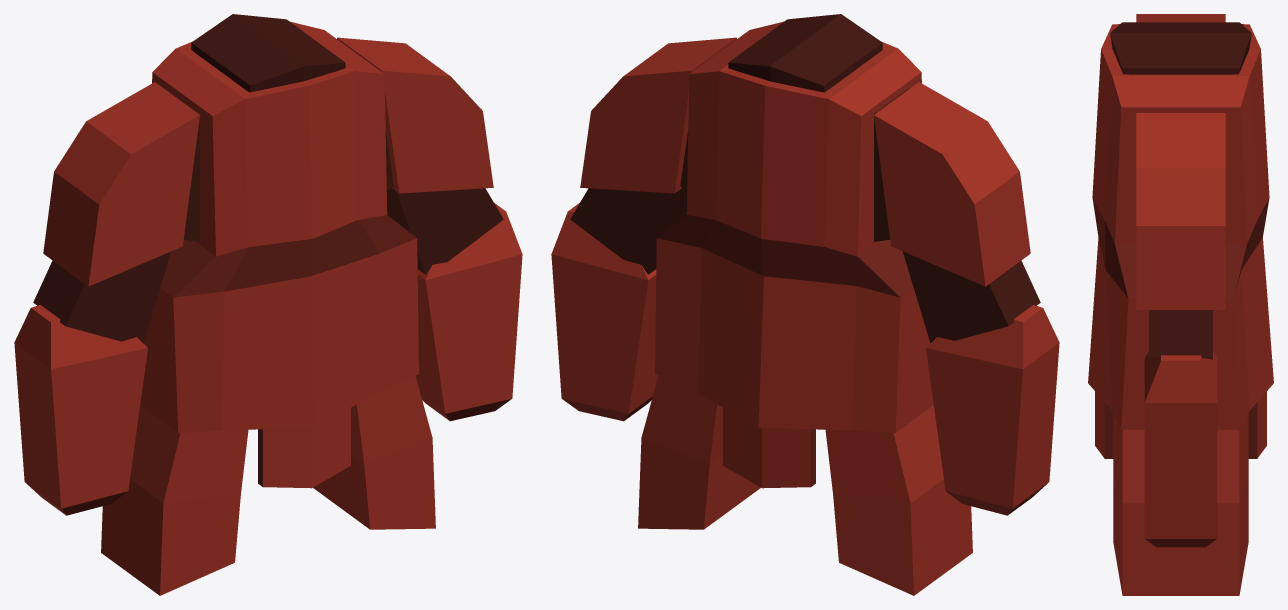
The model's file is Armor_2_Red.fbx.
The picture shows the model from 3 angles, left to right: view 1: azimuth 30°, elevation 25°; view 2: azimuth 150°, elevation 25°; view 3: azimuth 270°, elevation 25°; orthographic projection.
Visible parts, largest first — view 1: Armor_2_Red_Part_1, Armor_2_Red_Part_2, Armor_2_Red_Part_3; view 2: Armor_2_Red_Part_1, Armor_2_Red_Part_2, Armor_2_Red_Part_3; view 3: Armor_2_Red_Part_1, Armor_2_Red_Part_2, Armor_2_Red_Part_3.
Boxes of the visible parts, left/top/right/bottom form: Armor_2_Red_Part_1: left=14, top=21, right=522, bottom=595; Armor_2_Red_Part_2: left=33, top=14, right=503, bottom=343; Armor_2_Red_Part_3: left=26, top=215, right=511, bottom=515; Armor_2_Red_Part_1: left=551, top=21, right=1059, bottom=595; Armor_2_Red_Part_2: left=570, top=14, right=1040, bottom=343; Armor_2_Red_Part_3: left=562, top=215, right=1047, bottom=515; Armor_2_Red_Part_1: left=1088, top=14, right=1273, bottom=595; Armor_2_Red_Part_2: left=1110, top=22, right=1251, bottom=359; Armor_2_Red_Part_3: left=1092, top=198, right=1269, bottom=547.
Bounding box in the file's own units: 152 × 155 × 52.54.
